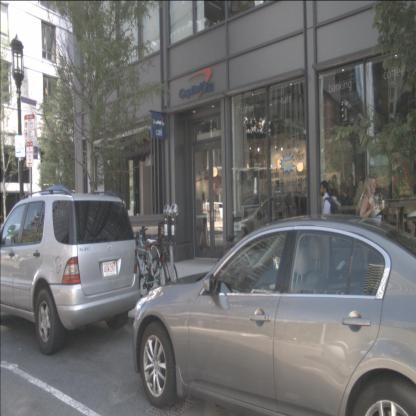human-pedestrian-adult: (355, 175, 377, 290), (318, 180, 338, 285)
vehicle-car: (132, 214, 415, 415), (0, 193, 141, 355), (230, 195, 330, 252)
